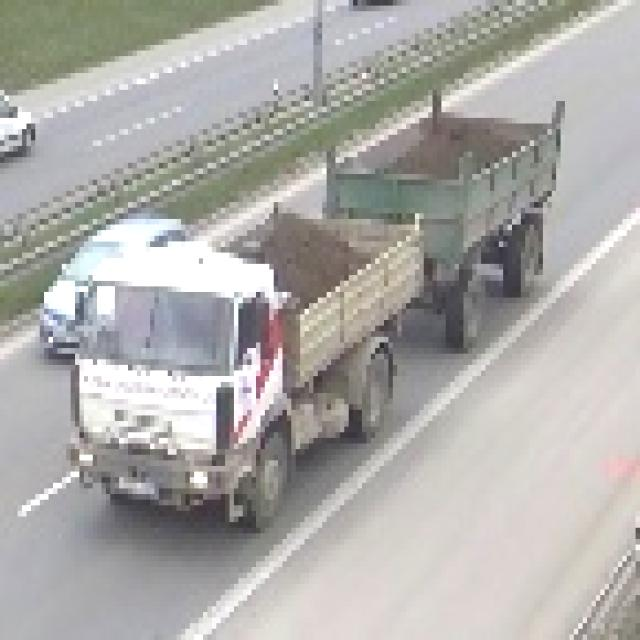truck: (67, 74, 562, 529)
